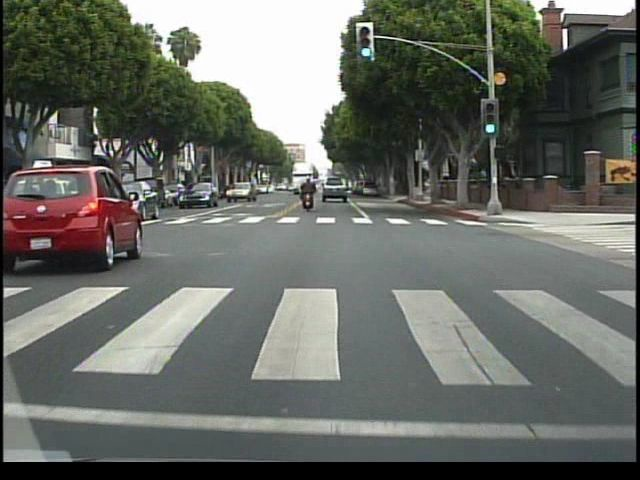person: (299, 175, 320, 218)
